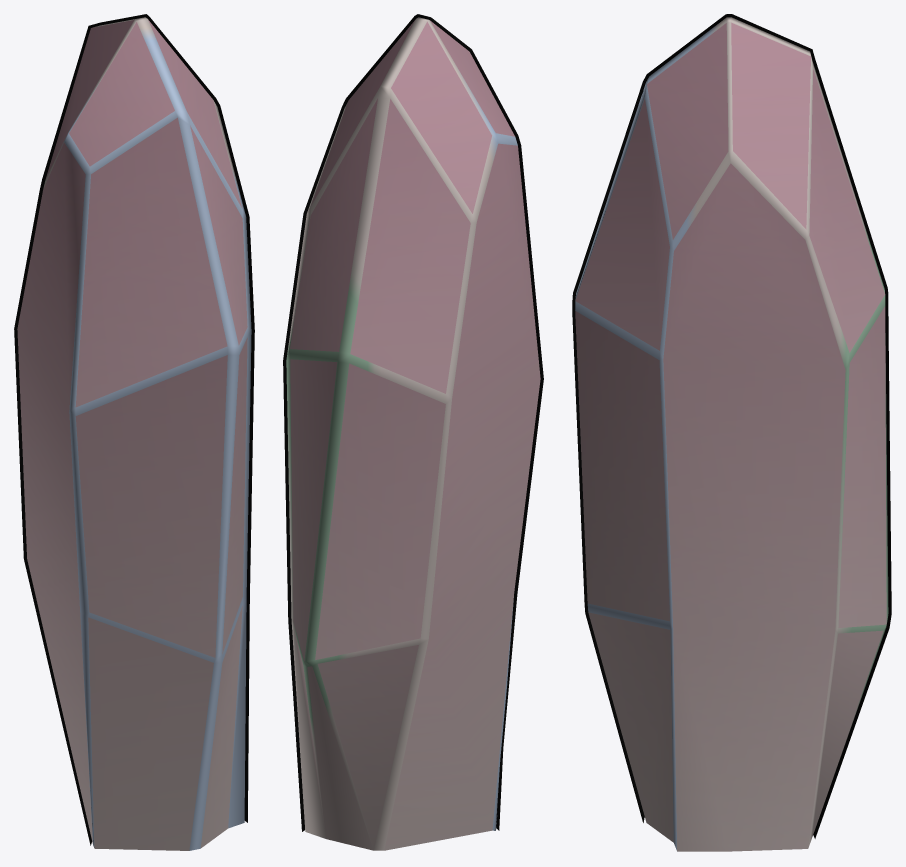
File: Crystal_Small_01.optimized.glb
The picture shows the model from 3 angles, left to right: view 1: azimuth 30°, elevation 25°; view 2: azimuth 150°, elevation 25°; view 3: azimuth 270°, elevation 25°; orthographic projection.
Parts seen in each view (by area): view 1: Crystal_Small_01; view 2: Crystal_Small_01; view 3: Crystal_Small_01.
Boxes of the visible parts, x1,y1,x2,y2 form: Crystal_Small_01: (14, 14, 254, 850); Crystal_Small_01: (283, 14, 543, 850); Crystal_Small_01: (572, 14, 891, 851).
Size of the model in its own units: 1.09 by 4.74 by 1.72.
2 materials, 1 textured.
